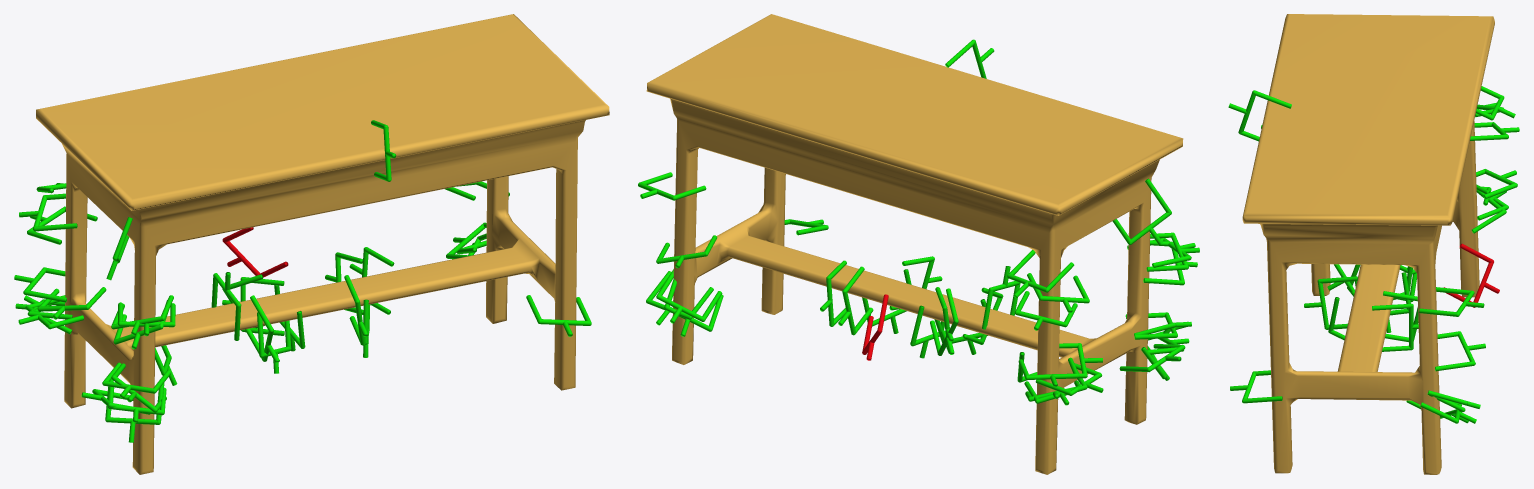
Rendered from ours_table.glb.
3 renders of one model, left to right at view 1: azimuth 30°, elevation 25°; view 2: azimuth 150°, elevation 25°; view 3: azimuth 270°, elevation 25°, orthographic. The views are drawn at different scales.
Visible parts, largest first — view 1: mesh.001, gripper_41.001, gripper_9.001, gripper_39.001, gripper_17.001, gripper_21, gripper_29.001, gripper_5.001; view 2: mesh.001, gripper_19, gripper_32.001, gripper_24, gripper_27, gripper_35.001, gripper_42.001, gripper_39.001, gripper_13, gripper_25, gripper_41.001, gripper_17.001; view 3: mesh.001, gripper_10.001, gripper_37.001, gripper_27, gripper_26, gripper_41.001, gripper_7, gripper_9.001, gripper_18, gripper_21, gripper_32.001, gripper_35.001 (+3 smaller).
Part boxes in pixels (box(x1,y1,x2,y2)): mesh.001: box(36, 14, 609, 474); gripper_41.001: box(222, 227, 288, 277); gripper_9.001: box(526, 295, 591, 336); gripper_39.001: box(211, 272, 241, 340); gripper_17.001: box(19, 193, 77, 231); gripper_21: box(14, 267, 66, 302); gripper_29.001: box(245, 295, 279, 363); gripper_5.001: box(105, 379, 164, 442); mesh.001: box(646, 14, 1183, 474); gripper_19: box(1112, 178, 1171, 245); gripper_32.001: box(1007, 250, 1074, 297); gripper_24: box(656, 269, 722, 323); gripper_27: box(638, 172, 706, 200); gripper_35.001: box(838, 266, 873, 335); gripper_42.001: box(646, 271, 713, 325); gripper_39.001: box(982, 266, 1020, 329); gripper_13: box(664, 279, 723, 336); gripper_25: box(930, 288, 958, 355); gripper_41.001: box(862, 294, 888, 360); gripper_17.001: box(1027, 273, 1089, 313); mesh.001: box(1242, 14, 1494, 474); gripper_10.001: box(1228, 90, 1291, 141); gripper_37.001: box(1304, 276, 1357, 329); gripper_27: box(1419, 287, 1484, 316); gripper_26: box(1372, 303, 1418, 351); gripper_41.001: box(1444, 243, 1499, 307); gripper_7: box(1435, 331, 1485, 371); gripper_9.001: box(1230, 370, 1282, 403); gripper_18: box(1470, 122, 1519, 140); gripper_21: box(1476, 169, 1517, 198); gripper_32.001: box(1476, 86, 1515, 120); gripper_35.001: box(1383, 291, 1418, 342).
Size of the model in its own units: 13.57 by 8.36 by 7.47.
